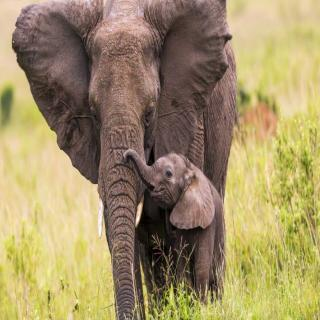Elephant: (10, 0, 241, 320), (122, 144, 228, 302)
